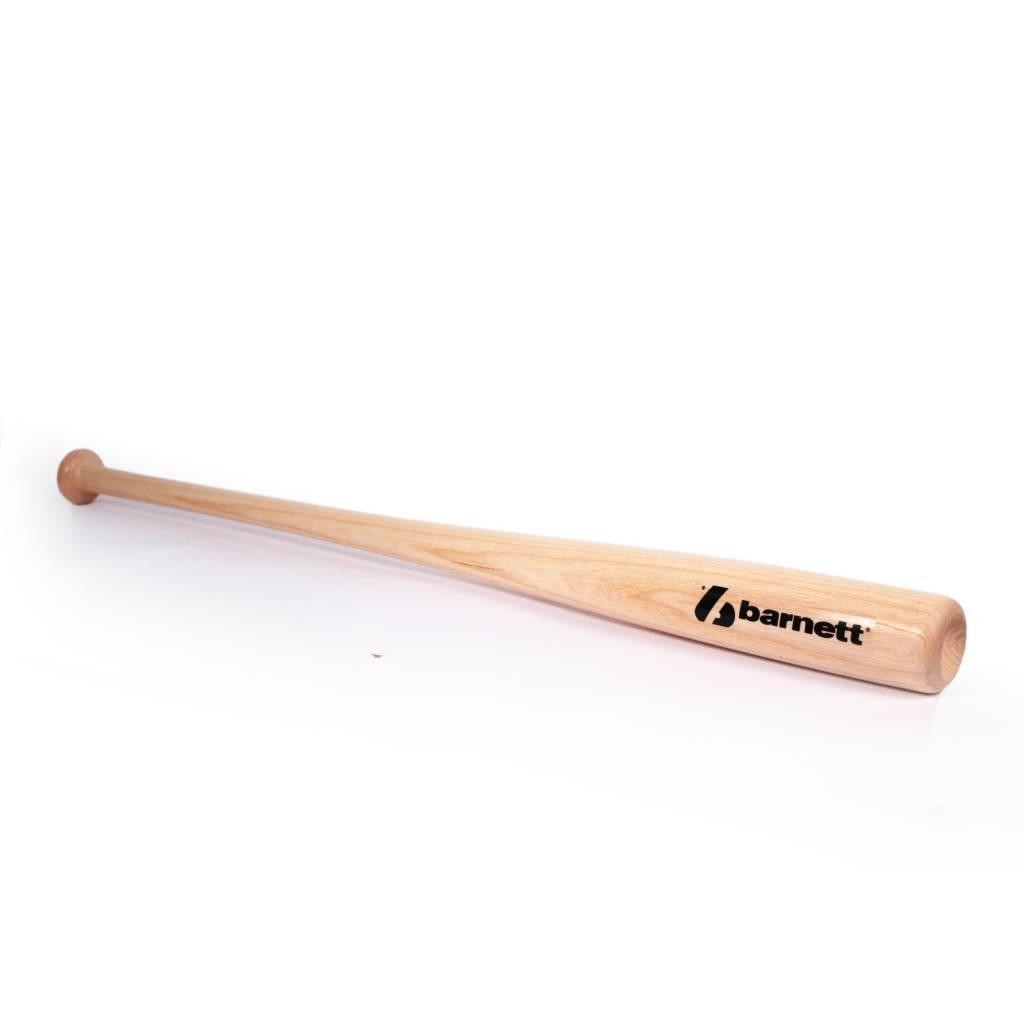Baseball-Bat: (68, 378, 998, 760)
